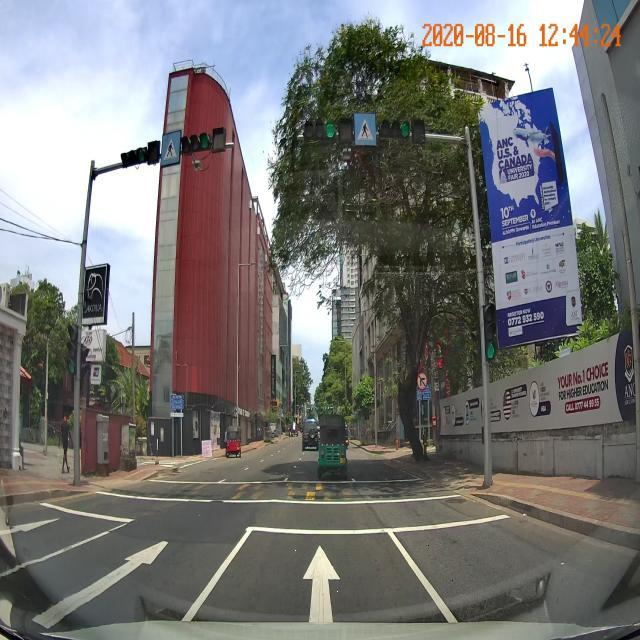forward: (172, 518, 471, 621)
